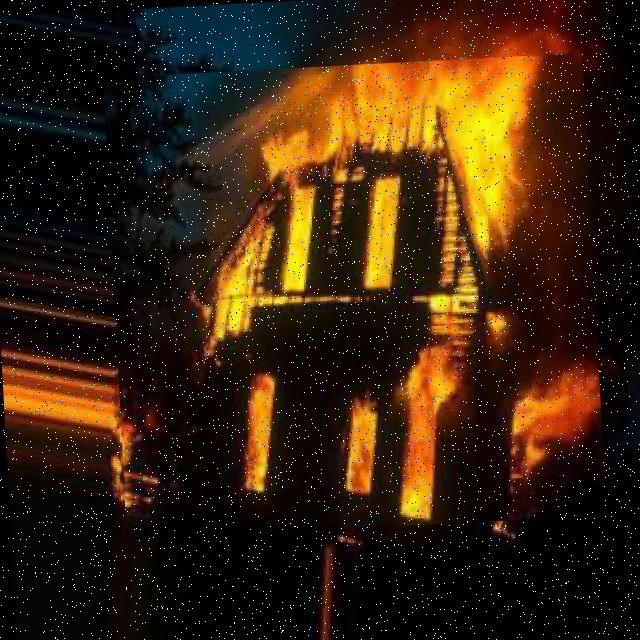fire: (103, 53, 607, 540)
